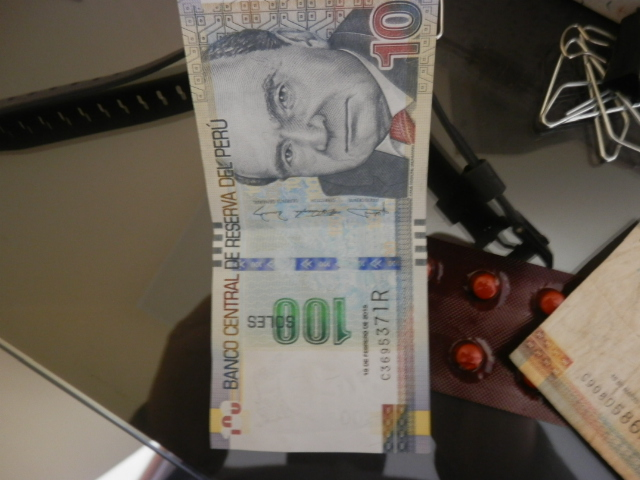B100: (179, 3, 454, 465)
